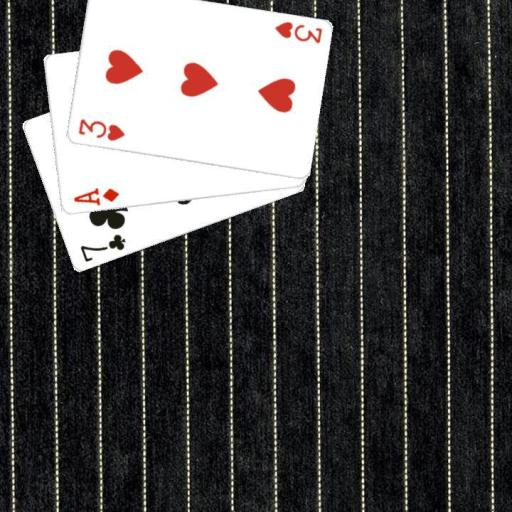3H: (271, 19, 323, 46), (75, 116, 126, 143)
7C: (77, 231, 127, 264)
AD: (71, 185, 121, 208)
